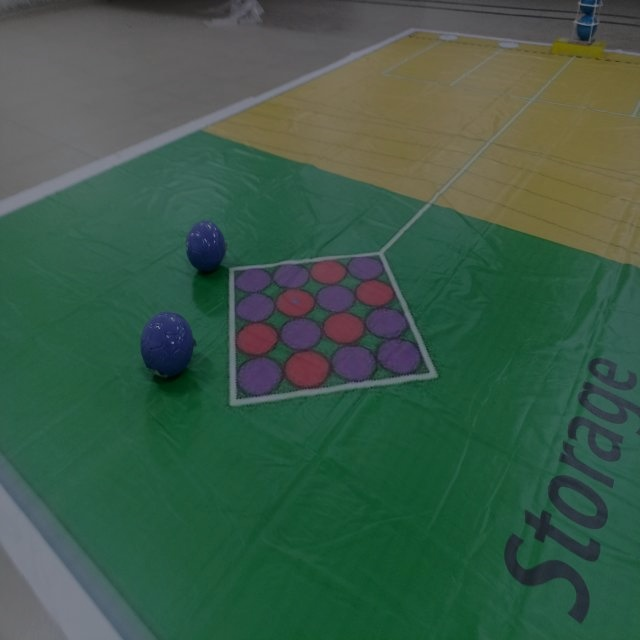blue_ball: (575, 12, 597, 42)
purple_ball: (142, 310, 195, 380), (186, 218, 224, 273)
silo: (572, 0, 603, 45)
